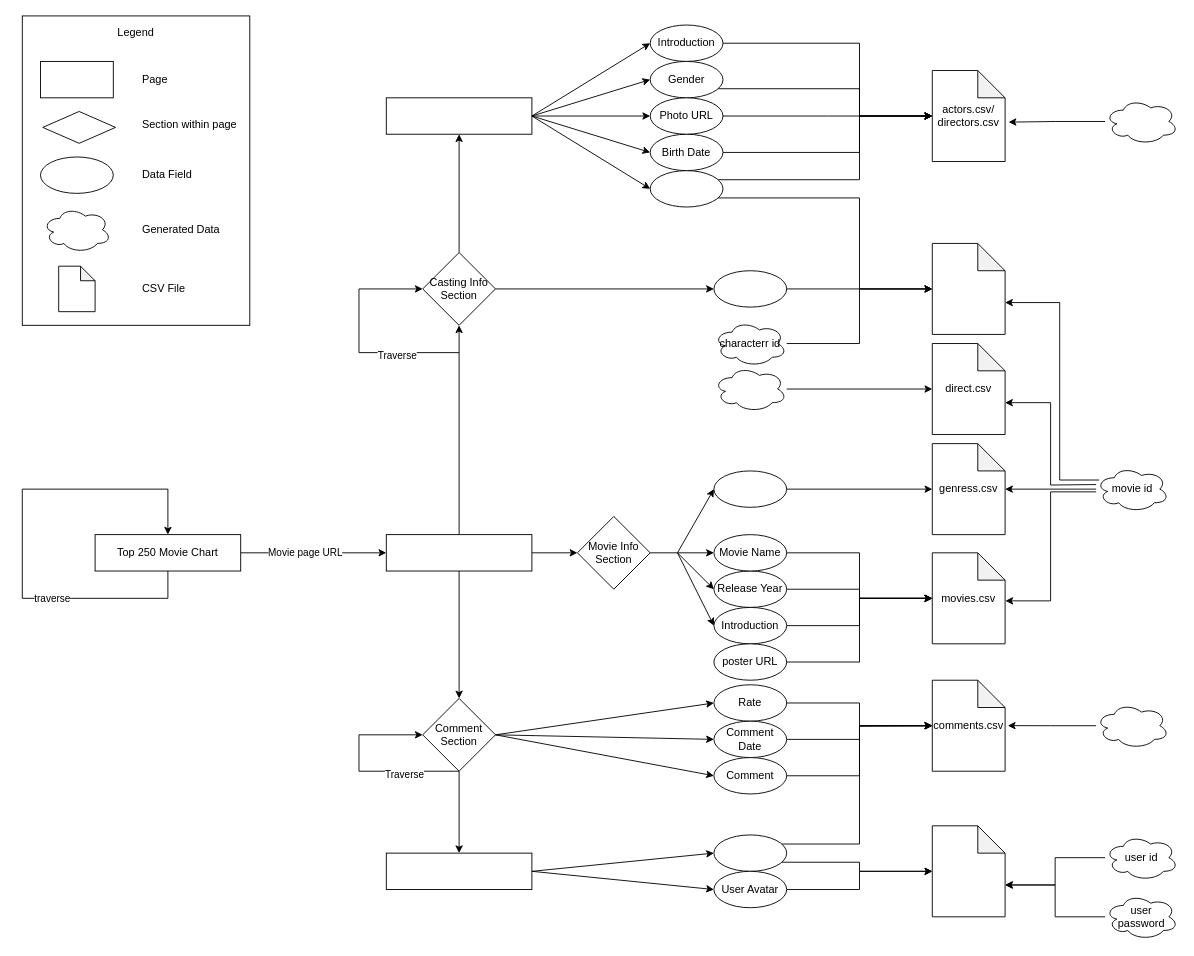
Image size: 1194x956. Some labels were removed from this diagram. Each missing label, with the box of its shape:
actor id/ director id: (1104, 98, 1178, 144)
Actor/Director Detail Page: (385, 97, 532, 134)
character name: (713, 270, 787, 307)
characters.csv: (931, 243, 1005, 334)
comment id: (1095, 702, 1169, 748)
director id: (713, 365, 787, 412)
Genres: (713, 470, 787, 507)
Movie Detail Page: (385, 534, 532, 571)
Name: (649, 170, 723, 207)
User Name: (713, 834, 787, 871)
User Profile Page: (385, 852, 532, 890)
users.csv: (931, 825, 1005, 917)
